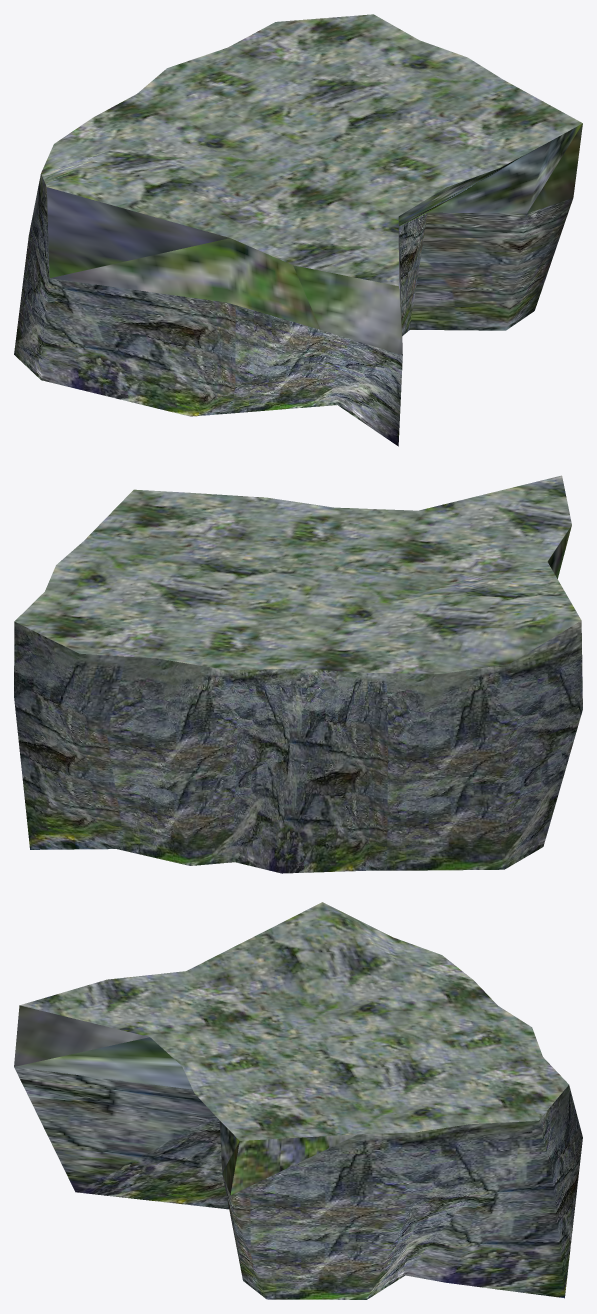
3 renders of one model, top to bottom at view 1: azimuth 30°, elevation 25°; view 2: azimuth 150°, elevation 25°; view 3: azimuth 270°, elevation 25°, orthographic. The views are drawn at different scales.
Visible parts, largest first — view 1: Box187; view 2: Box187; view 3: Box187.
Boxes of the visible parts, x1,y1,x2,y2 form: Box187: (14,14,582,446); Box187: (14,475,582,873); Box187: (14,902,582,1299).
Size of the model in its own units: 338 by 153 by 373.
